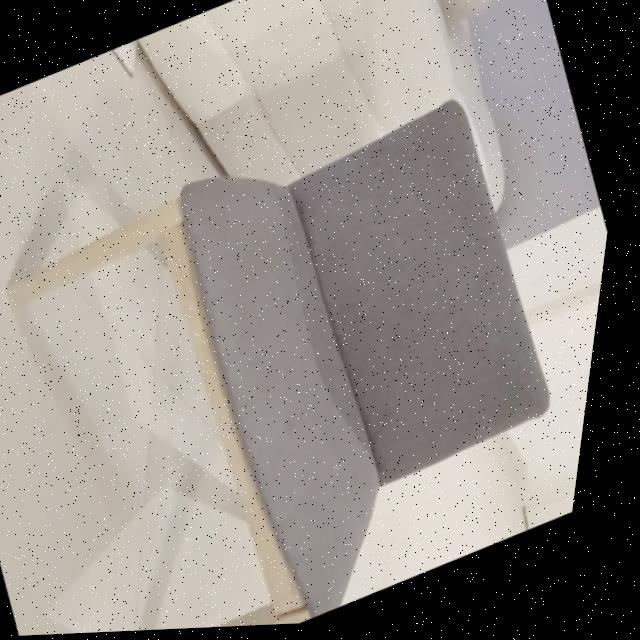sandalye: (15, 104, 561, 630)
